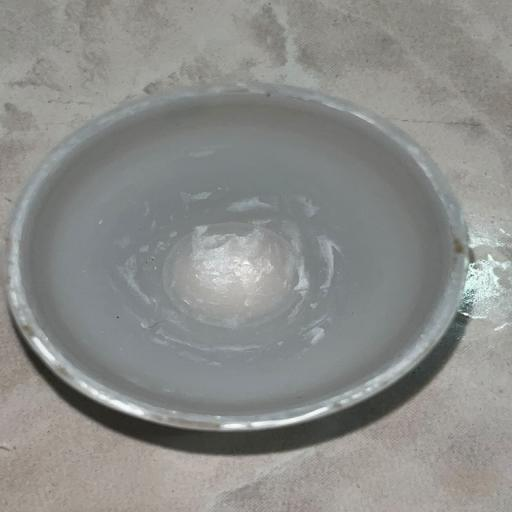PET: (0, 73, 512, 476)
